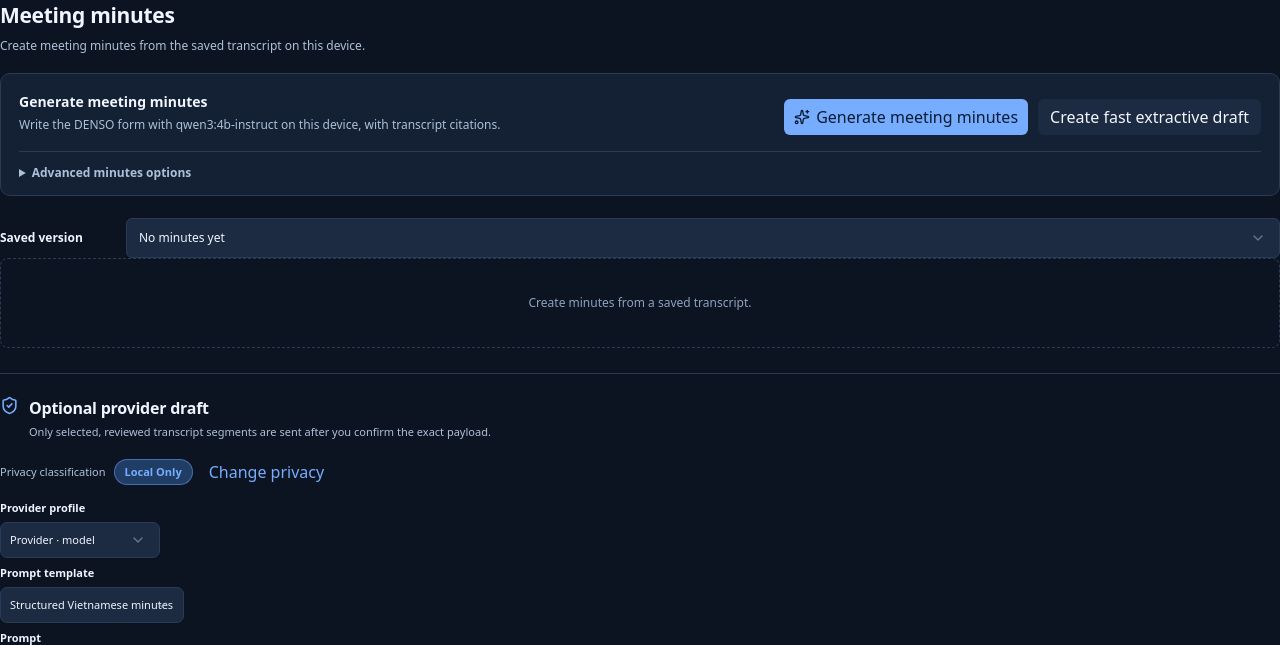
Test case: uses installed local AI for the one-click minutes action and labels its origin
Expected: the text "Write the DENSO form with qwen3:4b-instruct" is shown, x1=19 y1=116 x2=500 y2=133
Click the button "Generate meeting minutes" at (906, 117), box x1=784 y1=99 x2=1028 y2=135
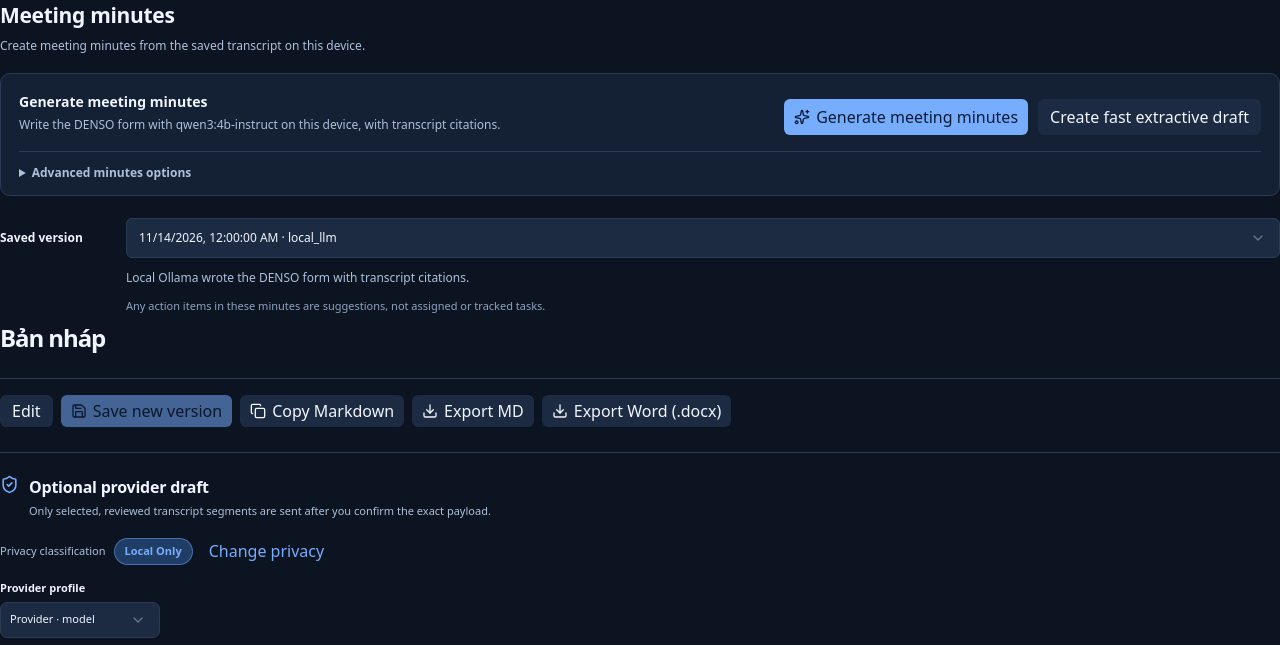
Expected: the text "Local Ollama wrote the DENSO form with transcript citations." is shown, x1=126 y1=269 x2=469 y2=287
